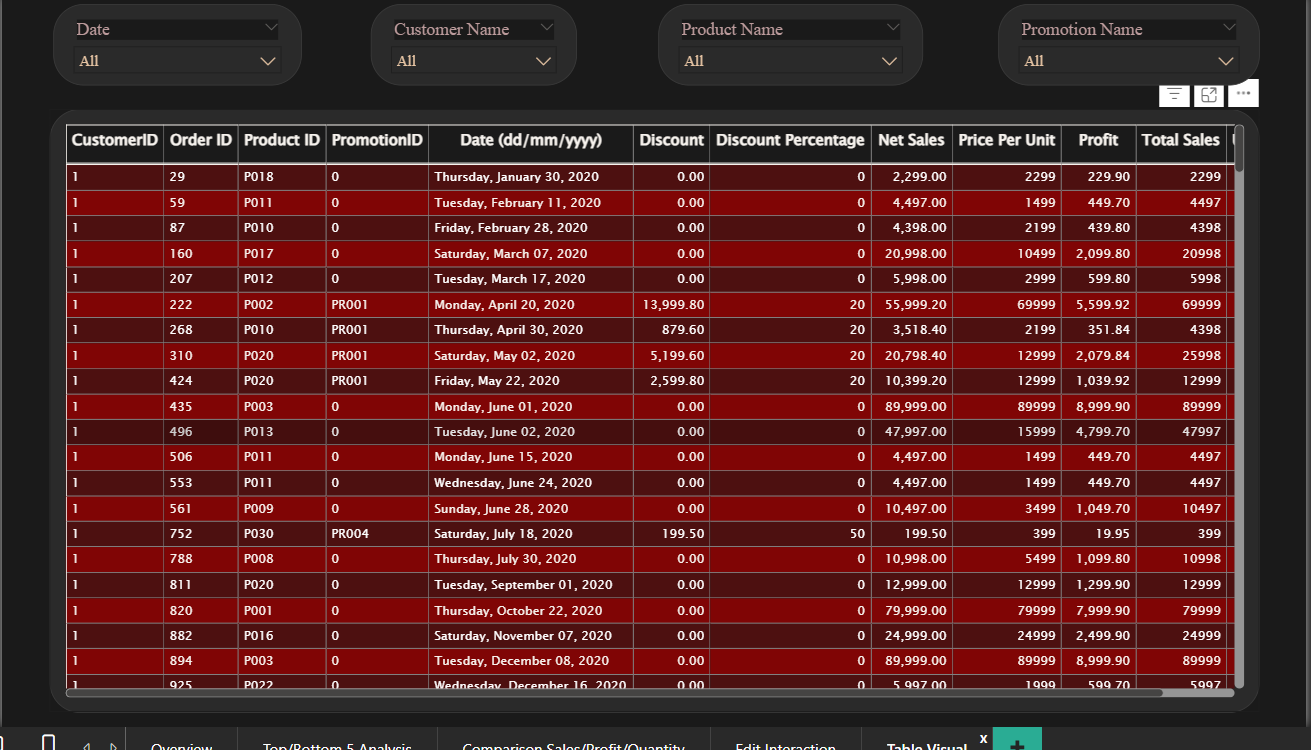

The page's visual inventory and layout, read from the dashboard file:
{"tool":"powerbi","page":{"name":"Table Visual","canvas":[1280,720],"ordinal":4},"visuals":[{"type":"tableEx","fields":{"Values":["Fact Table.CustomerID","Fact Table.Order ID","Fact Table.Product ID","Fact Table.PromotionID","Fact Table.Date (dd/mm/yyyy)","Fact Table.Discount","Fact Table.Discount Percentage","Fact Table.Net Sales","Fact Table.Price Per Unit","Fact Table.Profit","Fact Table.Total Sales","Fact Table.Units Sold"]},"box":[46.6,112.9,1187.7,592.6],"z":0},{"type":"slicer","fields":{"Values":["Date Table 1.Date"]},"box":[50.6,9.8,243.8,80],"z":1000},{"type":"slicer","fields":{"Values":["Dim Customers.Customer Name"]},"box":[361.9,9.8,202.5,80],"z":2000},{"type":"slicer","fields":{"Values":["Dim Product.Product Name"]},"box":[644.4,9.8,260,80],"z":3000},{"type":"slicer","fields":{"Values":["Dim Promotion.Promotion Name"]},"box":[977.9,9.8,256.4,79.8],"z":4000}]}

Visuals, with their boxes on the page's 1280x720 design canvas (x1, y1, x2, y2). These are canvas units, not pixel positions in the 1311x750 screenshot, which may show the page scaled, cropped or inside an application window:
tableEx - Fact Table.CustomerID x Fact Table.Order ID: 47 113 1234 706
slicer - Date Table 1.Date: 51 10 294 90
slicer - Dim Customers.Customer Name: 362 10 564 90
slicer - Dim Product.Product Name: 644 10 904 90
slicer - Dim Promotion.Promotion Name: 978 10 1234 90
